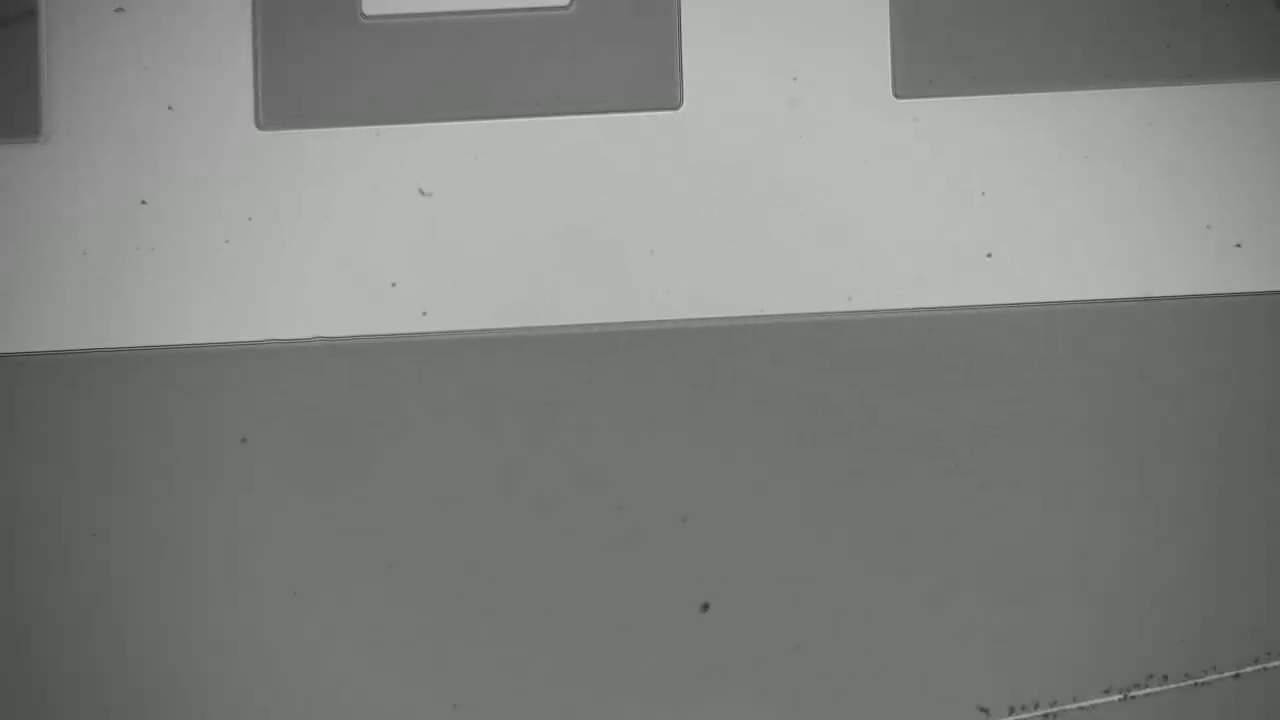scratch: (1003, 654, 1280, 717)
